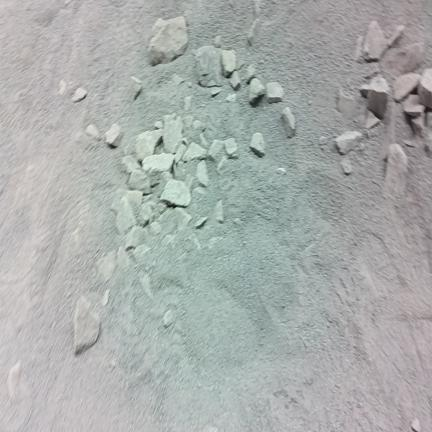Rock: (149, 17, 187, 65), (74, 296, 100, 354), (382, 43, 423, 75), (386, 144, 407, 195), (196, 46, 222, 86), (142, 153, 174, 185), (364, 21, 387, 61), (368, 77, 389, 119), (136, 129, 163, 161), (161, 180, 191, 206), (116, 197, 136, 234), (394, 73, 420, 101), (163, 118, 183, 153), (401, 43, 423, 73), (335, 131, 362, 154), (128, 168, 151, 194), (7, 362, 21, 401), (97, 251, 115, 281), (338, 89, 356, 118), (418, 69, 431, 108), (403, 95, 424, 117), (125, 227, 145, 250), (182, 143, 207, 161), (124, 191, 142, 214), (111, 188, 126, 215), (249, 78, 265, 103), (388, 25, 405, 48), (105, 124, 122, 147), (221, 50, 236, 76), (282, 107, 295, 137), (250, 133, 265, 157), (266, 82, 284, 102), (175, 208, 191, 230), (139, 202, 154, 225), (132, 245, 150, 264), (248, 19, 261, 45), (140, 274, 153, 299), (196, 160, 208, 187), (122, 156, 140, 173), (209, 140, 223, 161), (411, 115, 425, 136), (130, 77, 142, 100), (117, 247, 130, 268), (86, 124, 102, 141), (224, 139, 238, 158), (354, 36, 364, 62), (365, 111, 379, 129), (175, 144, 187, 163), (365, 63, 379, 79), (154, 202, 167, 219), (72, 88, 87, 102), (245, 65, 256, 83), (160, 172, 173, 187), (217, 155, 227, 174), (230, 71, 240, 90), (173, 163, 184, 180), (215, 200, 223, 223), (123, 142, 136, 156), (341, 158, 352, 174), (184, 9, 194, 26), (163, 310, 173, 327), (162, 234, 176, 246), (237, 50, 245, 70), (195, 217, 208, 229), (360, 84, 371, 98), (425, 132, 431, 157), (163, 113, 176, 124), (411, 418, 421, 432), (200, 133, 209, 148), (172, 74, 184, 85), (193, 120, 205, 131), (193, 187, 205, 198), (150, 222, 161, 234), (101, 290, 109, 306), (58, 80, 67, 94), (183, 116, 193, 128), (185, 175, 193, 190), (253, 0, 260, 17), (184, 96, 191, 111), (403, 140, 417, 147), (203, 425, 218, 431), (211, 88, 222, 96), (214, 36, 221, 48), (319, 136, 327, 146), (276, 168, 286, 175), (226, 94, 236, 101), (155, 121, 163, 129), (234, 218, 242, 226), (182, 137, 189, 146), (187, 82, 192, 88)
